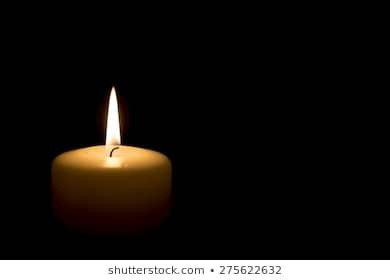fire: (102, 82, 124, 153)
